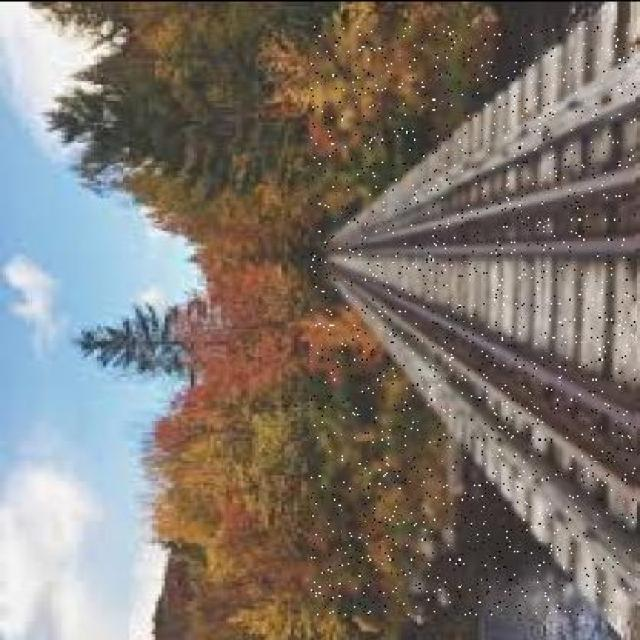rail: (313, 24, 636, 614)
